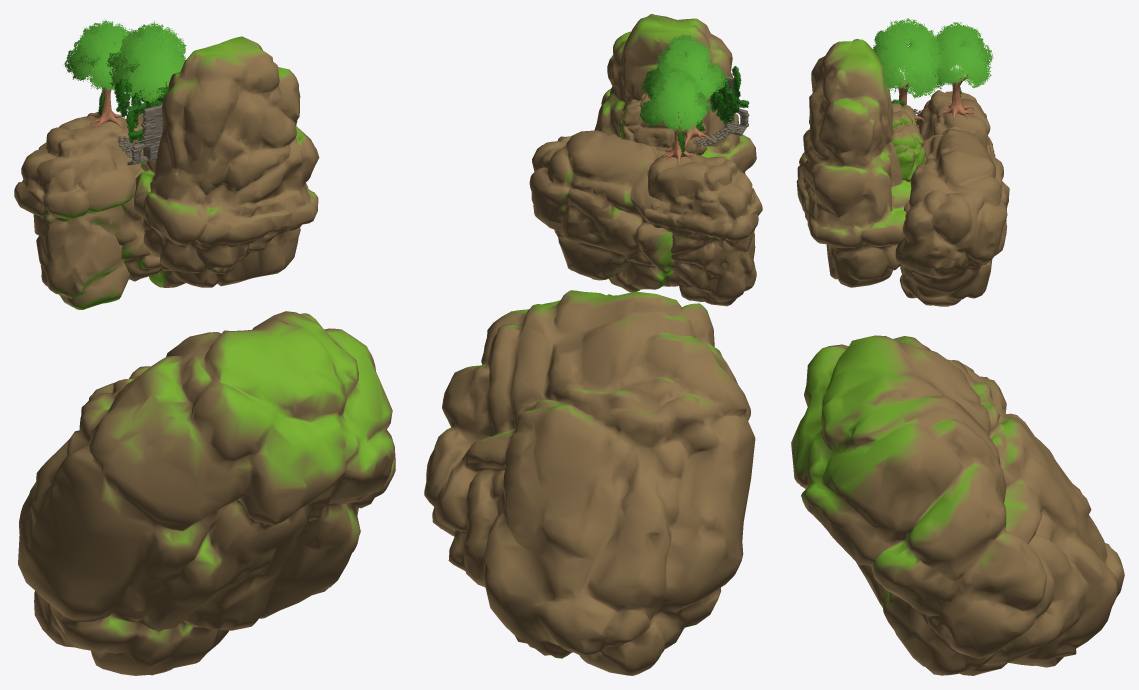
File: cell_x-1_z-2_render.gltf
3 views of the same model, side by side, from view 1: azimuth 30°, elevation 25°; view 2: azimuth 150°, elevation 25°; view 3: azimuth 270°, elevation 25° (orthographic). The views are drawn at different scales.
Parts seen in each view (by area): view 1: SM_ENV_cliff_castle_01_LOD0.008, SM_ENV_cliff_castle_02_LOD0.005, SM_ENV_cliff_castle_02_LOD0.012, SM_ENV_tree_castle_01_LOD0.023, SM_ENV_tree_castle_01_LOD0.047, SM_ENV_cliff_castle_01_LOD0.020, SM_MOD_wall_big_castle_LOD0.208; view 2: SM_ENV_cliff_castle_01_LOD0.008, SM_ENV_cliff_castle_01_LOD0.020, SM_ENV_cliff_castle_02_LOD0.012, SM_ENV_cliff_castle_02_LOD0.005, SM_ENV_tree_castle_01_LOD0.047, SM_ENV_tree_castle_01_LOD0.023, SM_ENV_cliff_castle_01_LOD0.044; view 3: SM_ENV_cliff_castle_01_LOD0.008, SM_ENV_cliff_castle_02_LOD0.005, SM_ENV_cliff_castle_01_LOD0.020, SM_ENV_tree_castle_01_LOD0.023, SM_ENV_tree_castle_01_LOD0.047, SM_ENV_cliff_castle_02_LOD0.012, SM_ENV_cliff_castle_01_LOD0.044.
Part boxes in pixels (bbox=[...]): SM_ENV_cliff_castle_01_LOD0.008: bbox=[18, 311, 395, 675]; SM_ENV_cliff_castle_02_LOD0.005: bbox=[134, 36, 319, 287]; SM_ENV_cliff_castle_02_LOD0.012: bbox=[14, 115, 144, 309]; SM_ENV_tree_castle_01_LOD0.023: bbox=[106, 20, 186, 144]; SM_ENV_tree_castle_01_LOD0.047: bbox=[64, 20, 130, 127]; SM_ENV_cliff_castle_01_LOD0.020: bbox=[114, 102, 185, 287]; SM_MOD_wall_big_castle_LOD0.208: bbox=[141, 104, 162, 144]; SM_ENV_cliff_castle_01_LOD0.008: bbox=[424, 290, 755, 675]; SM_ENV_cliff_castle_01_LOD0.020: bbox=[529, 130, 674, 292]; SM_ENV_cliff_castle_02_LOD0.012: bbox=[639, 152, 762, 306]; SM_ENV_cliff_castle_02_LOD0.005: bbox=[594, 14, 756, 173]; SM_ENV_tree_castle_01_LOD0.047: bbox=[640, 66, 711, 165]; SM_ENV_tree_castle_01_LOD0.023: bbox=[641, 34, 727, 147]; SM_ENV_cliff_castle_01_LOD0.044: bbox=[618, 93, 706, 155]; SM_ENV_cliff_castle_01_LOD0.008: bbox=[791, 335, 1124, 675]; SM_ENV_cliff_castle_02_LOD0.005: bbox=[796, 39, 911, 287]; SM_ENV_cliff_castle_01_LOD0.020: bbox=[895, 126, 1009, 306]; SM_ENV_tree_castle_01_LOD0.023: bbox=[873, 18, 948, 126]; SM_ENV_tree_castle_01_LOD0.047: bbox=[932, 22, 993, 120]; SM_ENV_cliff_castle_02_LOD0.012: bbox=[916, 90, 996, 158]; SM_ENV_cliff_castle_01_LOD0.044: bbox=[891, 103, 927, 181].
Size of the model in its own units: 65.36 by 121 by 58.28.
Materials: 7 (6 with a texture image).
